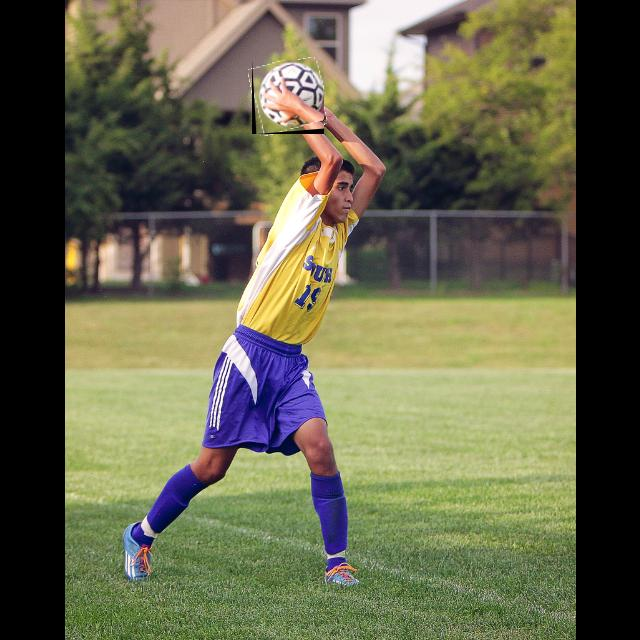Football: (252, 60, 324, 134)
